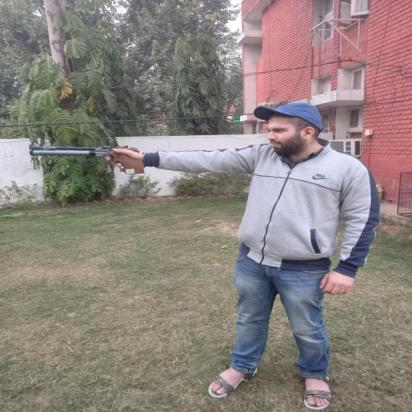Gun: (27, 143, 147, 176)
